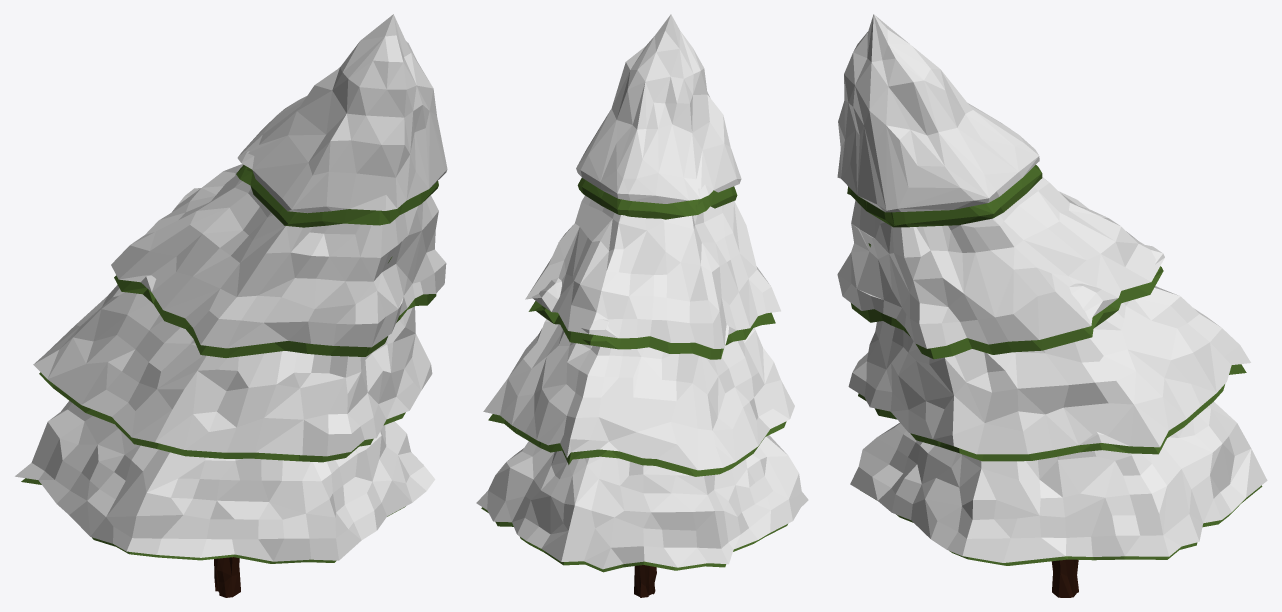
The model's file is Arbol Nevado 2.fbx.
3 renders of one model, left to right at view 1: azimuth 30°, elevation 25°; view 2: azimuth 150°, elevation 25°; view 3: azimuth 270°, elevation 25°, orthographic. The views are drawn at different scales.
Parts seen in each view (by area): view 1: Arbol nevado 2_LOD0; view 2: Arbol nevado 2_LOD0; view 3: Arbol nevado 2_LOD0.
Boxes of the visible parts, x1,y1,x2,y2 form: Arbol nevado 2_LOD0: (15,14,447,597); Arbol nevado 2_LOD0: (476,14,808,597); Arbol nevado 2_LOD0: (837,14,1267,597).
Size of what is drawn, in the model's own units: 177 by 333 by 213.
